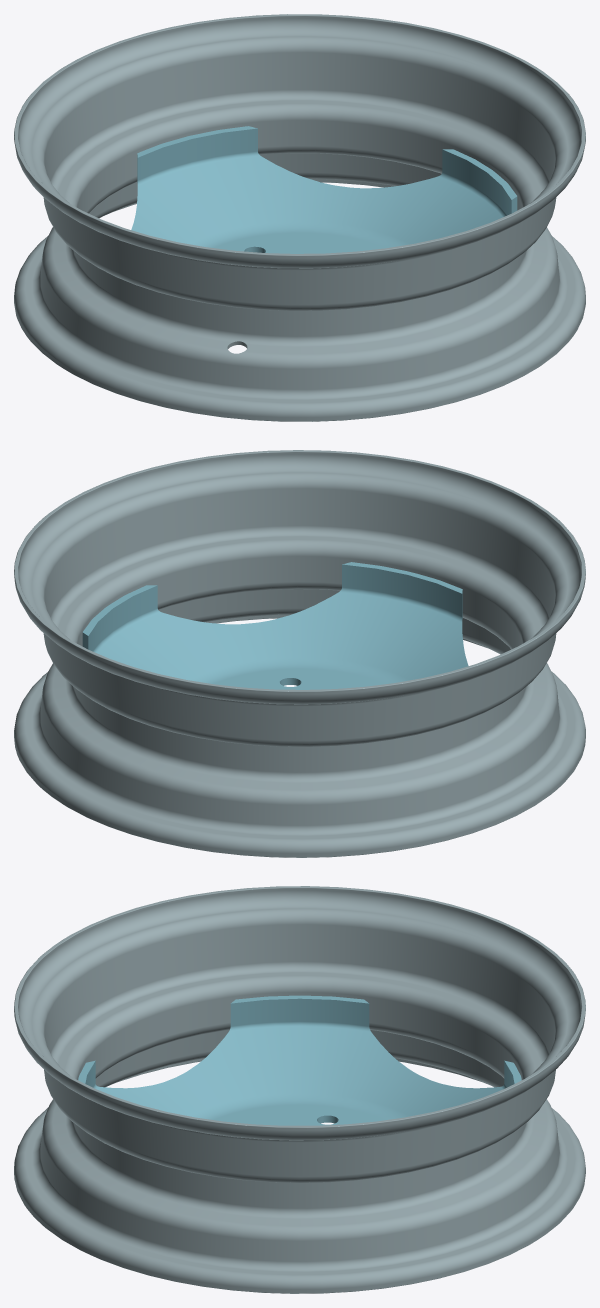
File: Sample2.obj
3 views of the same model, one above another, from view 1: azimuth 30°, elevation 25°; view 2: azimuth 150°, elevation 25°; view 3: azimuth 270°, elevation 25° (orthographic).
Visible parts, largest first — view 1: MODEL, MODEL-1; view 2: MODEL, MODEL-1; view 3: MODEL, MODEL-1.
Boxes of the visible parts, <box> form: MODEL: <box>14,14,585,421</box>; MODEL-1: <box>131,126,517,253</box>; MODEL: <box>14,450,585,857</box>; MODEL-1: <box>82,562,468,689</box>; MODEL: <box>14,886,585,1293</box>; MODEL-1: <box>78,995,521,1125</box>.
Size of the model in its own units: 445 by 143 by 446.
